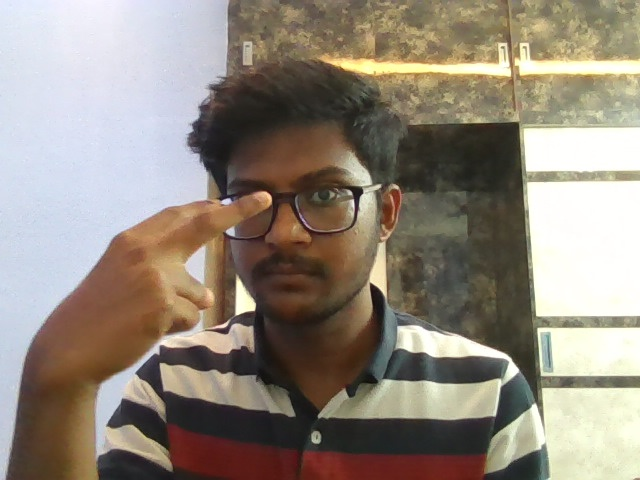see: (93, 182, 284, 361)
